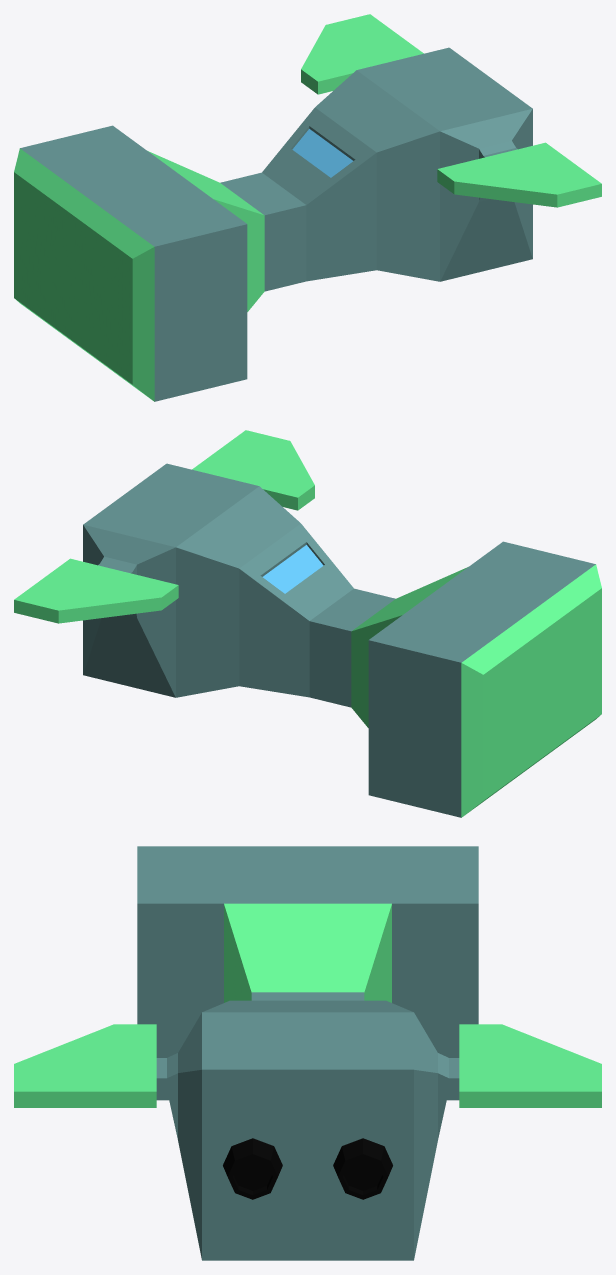
Rendered from defender1.fbx.
3 renders of one model, top to bottom at view 1: azimuth 30°, elevation 25°; view 2: azimuth 150°, elevation 25°; view 3: azimuth 270°, elevation 25°, orthographic. The views are drawn at different scales.
Parts seen in each view (by area): view 1: Defender; view 2: Defender; view 3: Defender.
Part boxes in pixels (x1=…): Defender: x1=14, y1=14, x2=601, y2=401; Defender: x1=14, y1=430, x2=601, y2=817; Defender: x1=14, y1=846, x2=601, y2=1260.
Size of the model in its own units: 589 by 227 by 542.
